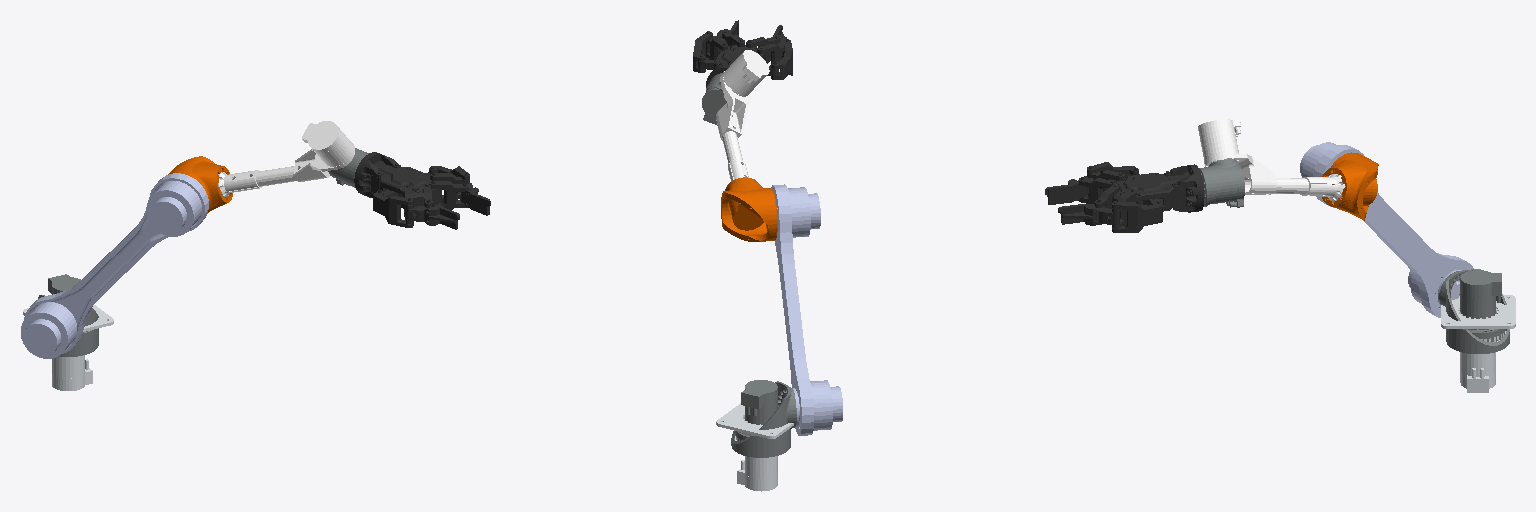
robot.urdf — rover_arm:
<?xml version="1.0" encoding="utf-8"?>
<!-- This URDF was automatically created by SolidWorks to URDF Exporter! Originally created by Stephen Brawner (brawner@gmail.com) 
     Commit Version: 1.6.0-4-g7f85cfe  Build Version: 1.6.7995.38578
     For more information, please see http://wiki.ros.org/sw_urdf_exporter -->
<robot
  name="rover_arm">
  
  <link name="world"/>

  <joint name="world_to_base" type="fixed">
    <parent link="world"/>
    <child link="base_link"/>
    <origin xyz="0 0 0" rpy="3.1416 0 0"/>
  </joint>

  <link
    name="base_link">
    <inertial>
      <origin
        xyz="-3.47228344066504E-18 4.86947285569104E-17 0.0598387302864992"
        rpy="0 0 0" />
      <mass
        value="0.219744023655981" />
      <inertia
        ixx="0.000224264814079452"
        ixy="-1.60873704444494E-20"
        ixz="-4.40061735388592E-22"
        iyy="0.000224264814079452"
        iyz="-1.07287849901648E-20"
        izz="0.00044509213804625" />
    </inertial>
    <visual>
      <origin
        xyz="0 0 0"
        rpy="0 0 0" />
      <geometry>
        <mesh
          filename="package://rover_arm/meshes/base_link.STL" />
      </geometry>
      <material
        name="">
        <color
          rgba="0.898039215686275 0.917647058823529 0.929411764705882 1" />
      </material>
    </visual>
    <collision>
      <origin
        xyz="0 0 0"
        rpy="0 0 0" />
      <geometry>
        <mesh
          filename="package://rover_arm/meshes/base_link.STL" />
      </geometry>
    </collision>
  </link>
  <link
    name="Link1.5">
    <inertial>
      <origin
        xyz="-0.00137045819153649 0.000243205923260911 0.00908179430343051"
        rpy="0 0 0" />
      <mass
        value="2.04153344279071" />
      <inertia
        ixx="0.00185141024448053"
        ixy="-2.24326067005647E-05"
        ixz="-7.46688369056669E-05"
        iyy="0.00180221293594771"
        iyz="6.5432528624706E-05"
        izz="0.00165845300699879" />
    </inertial>
    <visual>
      <origin
        xyz="0 0 0"
        rpy="0 0 0" />
      <geometry>
        <mesh
          filename="package://rover_arm/meshes/Link1.5.STL" />
      </geometry>
      <material
        name="">
        <color
          rgba="0.529411764705882 0.549019607843137 0.549019607843137 1" />
      </material>
    </visual>
    <collision>
      <origin
        xyz="0 0 0"
        rpy="0 0 0" />
      <geometry>
        <mesh
          filename="package://rover_arm/meshes/Link1.5.STL" />
      </geometry>
    </collision>
  </link>
  <joint
    name="Link1"
    type="fixed">
    <origin
      xyz="0 0 0"
      rpy="0 0 0" />
    <parent
      link="base_link" />
    <child
      link="Link1.5" />
    <axis
      xyz="0 0 0" />
    <limit
      lower="0"
      upper="0"
      effort="0"
      velocity="0" />
  </joint>
  <link
    name="Link2">
    <inertial>
      <origin
        xyz="0.119984962807491 0.00196698564974415 -0.0807668134071398"
        rpy="0 0 0" />
      <mass
        value="1.19593165380782" />
      <inertia
        ixx="0.00413067759750746"
        ixy="-0.00261165764365988"
        ixz="0.00337440243144047"
        iyy="0.00826955163319396"
        iyz="0.00183171701294834"
        izz="0.00736497664966822" />
    </inertial>
    <visual>
      <origin
        xyz="0 0 0"
        rpy="0 0 0" />
      <geometry>
        <mesh
          filename="package://rover_arm/meshes/Link2.STL" />
      </geometry>
      <material
        name="">
        <color
          rgba="0.792156862745098 0.819607843137255 0.933333333333333 1" />
      </material>
    </visual>
    <collision>
      <origin
        xyz="0 0 0"
        rpy="0 0 0" />
      <geometry>
        <mesh
          filename="package://rover_arm/meshes/Link2.STL" />
      </geometry>
    </collision>
  </link>
  <joint
    name="Link2"
    type="continuous">
    <origin
      xyz="-0.00025883 0.04747 -0.0132"
      rpy="1.5708 1.5284 0.0054525" />
    <parent
      link="Link1.5" />
    <child
      link="Link2" />
    <axis
      xyz="0 0 1" />
  </joint>
  <link
    name="Link3">
    <inertial>
      <origin
        xyz="-0.0379710474432482 -0.0198862697913886 0.138377079151387"
        rpy="0 0 0" />
      <mass
        value="1.19091866800207" />
      <inertia
        ixx="0.000540586458062107"
        ixy="-3.86176457173228E-06"
        ixz="-1.13312709144839E-05"
        iyy="0.000534522975621574"
        iyz="2.0693004575048E-05"
        izz="0.000624629356506218" />
    </inertial>
    <visual>
      <origin
        xyz="0 0 0"
        rpy="0 0 0" />
      <geometry>
        <mesh
          filename="package://rover_arm/meshes/Link3.STL" />
      </geometry>
      <material
        name="">
        <color
          rgba="0.909803921568627 0.443137254901961 0.0313725490196078 1" />
      </material>
    </visual>
    <collision>
      <origin
        xyz="0 0 0"
        rpy="0 0 0" />
      <geometry>
        <mesh
          filename="package://rover_arm/meshes/Link3.STL" />
      </geometry>
    </collision>
  </link>
  <joint
    name="Link3"
    type="continuous">
    <origin
      xyz="0.27765 0.1603 0"
      rpy="-3.1416 0 1.5284" />
    <parent
      link="Link2" />
    <child
      link="Link3" />
    <axis
      xyz="0 0 1" />
  </joint>
  <link
    name="Link4">
    <inertial>
      <origin
        xyz="-0.358695030970577 0.0976039561893992 0.0227609312659723"
        rpy="0 0 0" />
      <mass
        value="1.17148593710724" />
      <inertia
        ixx="0.000425747227263761"
        ixy="4.48370410909855E-05"
        ixz="4.81477054638228E-05"
        iyy="0.000492663024963805"
        iyz="-3.45702243208819E-05"
        izz="0.000492239085997097" />
    </inertial>
    <visual>
      <origin
        xyz="0 0 0"
        rpy="0 0 0" />
      <geometry>
        <mesh
          filename="package://rover_arm/meshes/Link4.STL" />
      </geometry>
      <material
        name="">
        <color
          rgba="1 1 1 1" />
      </material>
    </visual>
    <collision>
      <origin
        xyz="0 0 0"
        rpy="0 0 0" />
      <geometry>
        <mesh
          filename="package://rover_arm/meshes/Link4.STL" />
      </geometry>
    </collision>
  </link>
  <joint
    name="Link4"
    type="continuous">
    <origin
      xyz="0.053502 0 -0.035471"
      rpy="3.1416 1.5708 3.1416" />
    <parent
      link="Link3" />
    <child
      link="Link4" />
    <axis
      xyz="0 0 1" />
  </joint>
  <link
    name="Link5">
    <inertial>
      <origin
        xyz="0.0876527737114546 0.360268047298371 0.193345370773225"
        rpy="0 0 0" />
      <mass
        value="1.07420203734998" />
      <inertia
        ixx="0.000367092742060492"
        ixy="7.08073347737635E-06"
        ixz="7.62906743613573E-06"
        iyy="0.000406016294979546"
        iyz="-1.55404397556042E-06"
        izz="0.000382179593918468" />
    </inertial>
    <visual>
      <origin
        xyz="0 0 0"
        rpy="0 0 0" />
      <geometry>
        <mesh
          filename="package://rover_arm/meshes/Link5.STL" />
      </geometry>
      <material
        name="">
        <color
          rgba="0.529411764705882 0.549019607843137 0.549019607843137 1" />
      </material>
    </visual>
    <collision>
      <origin
        xyz="0 0 0"
        rpy="0 0 0" />
      <geometry>
        <mesh
          filename="package://rover_arm/meshes/Link5.STL" />
      </geometry>
    </collision>
  </link>
  <joint
    name="Link5"
    type="fixed">
    <origin
      xyz="0 0 0.2615"
      rpy="-3.1416 0 -1.9635" />
    <parent
      link="Link4" />
    <child
      link="Link5" />
    <axis
      xyz="0 0 0" />
    <limit
      lower="0"
      upper="0"
      effort="0"
      velocity="0" />
  </joint>
  <link
    name="End_effector">
    <inertial>
      <origin
        xyz="-0.296004083488572 0.0573662511705206 0.489657740787579"
        rpy="0 0 0" />
      <mass
        value="0.542794300765224" />
      <inertia
        ixx="0.000345054803083106"
        ixy="-1.50014906300123E-06"
        ixz="-5.02252398562351E-05"
        iyy="0.000401560086034988"
        iyz="-4.77187672077572E-06"
        izz="0.000196546909880828" />
    </inertial>
    <visual>
      <origin
        xyz="0 0 0"
        rpy="0 0 0" />
      <geometry>
        <mesh
          filename="package://rover_arm/meshes/End_effector.STL" />
      </geometry>
      <material
        name="">
        <color
          rgba="0.250980392156863 0.250980392156863 0.250980392156863 1" />
      </material>
    </visual>
    <collision>
      <origin
        xyz="0 0 0"
        rpy="0 0 0" />
      <geometry>
        <mesh
          filename="package://rover_arm/meshes/End_effector.STL" />
      </geometry>
    </collision>
  </link>
  <joint
    name="End_effector"
    type="fixed">
    <origin
      xyz="0 0 -0.1405"
      rpy="0.53499 1.5708 1.7134" />
    <parent
      link="Link5" />
    <child
      link="End_effector" />
    <axis
      xyz="0 0 0" />
  </joint>
</robot>

--- Facts derived from the render (not from the file) ---
3 views of the same robot in one strip: view 1: azimuth 30°, elevation 25°; view 2: azimuth 150°, elevation 25°; view 3: azimuth 270°, elevation 25° (orthographic).
Model rover_arm with 8 links and 7 joints (3 continuous, 4 fixed), rooted at world, posed every joint at zero.
Links seen in each view (by area): view 1: Link2, End_effector, Link4, base_link, Link3, Link1.5, Link5; view 2: Link2, Link1.5, Link4, End_effector, Link3, base_link, Link5; view 3: End_effector, Link2, Link4, Link1.5, base_link, Link3, Link5.
Boxes of the visible links, x1,y1,x2,y2 form: Link2: (21, 173, 208, 358); End_effector: (354, 152, 490, 229); Link4: (218, 121, 354, 196); base_link: (23, 305, 113, 390); Link3: (168, 156, 232, 212); Link1.5: (38, 274, 98, 356); Link5: (328, 148, 368, 187); Link2: (771, 184, 842, 435); Link1.5: (731, 380, 796, 457); Link4: (716, 50, 769, 181); End_effector: (693, 20, 792, 87); Link3: (721, 177, 777, 241); base_link: (716, 403, 793, 491); Link5: (702, 73, 726, 125); End_effector: (1045, 162, 1204, 232); Link2: (1300, 142, 1473, 317); Link4: (1198, 119, 1344, 200); Link1.5: (1439, 269, 1509, 353); base_link: (1441, 295, 1515, 392); Link3: (1322, 152, 1378, 220); Link5: (1199, 159, 1244, 207).
Size in the robot's own frame: 0.5314 by 0.6964 by 0.5474 metres.
Meshes: 7 distinct files referenced, 7 mesh visuals loaded (7 binary STL).
